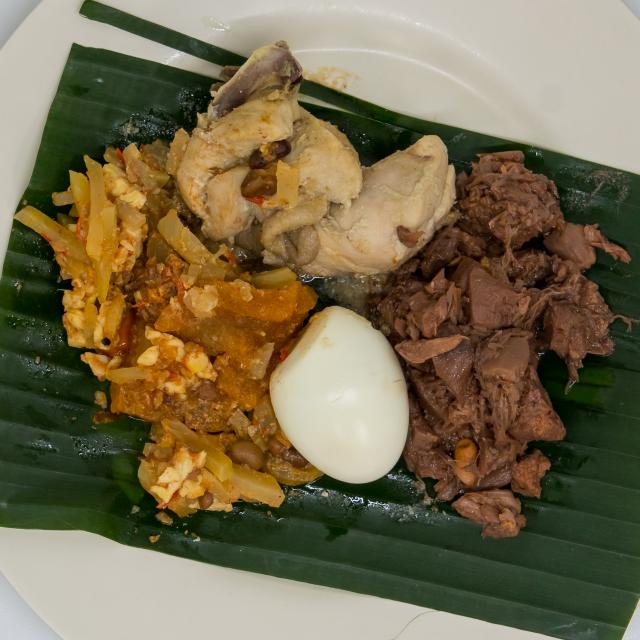Gudeg-Jogja: (12, 32, 624, 572)
